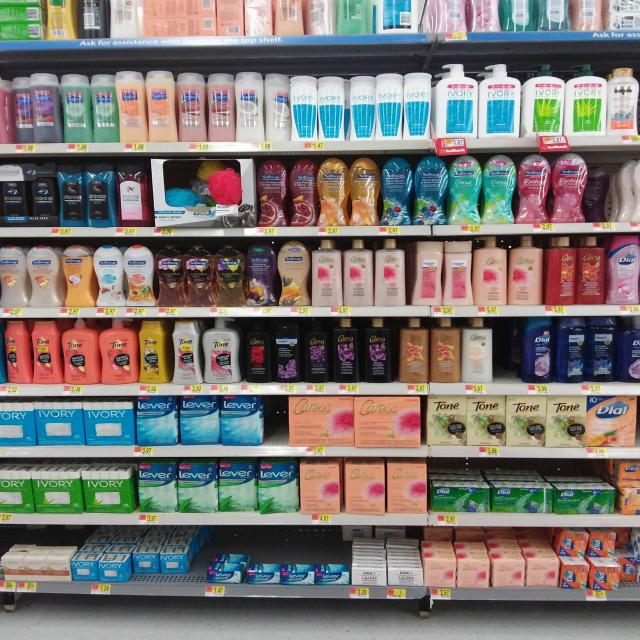empty: (491, 322, 533, 382), (263, 394, 292, 449)
